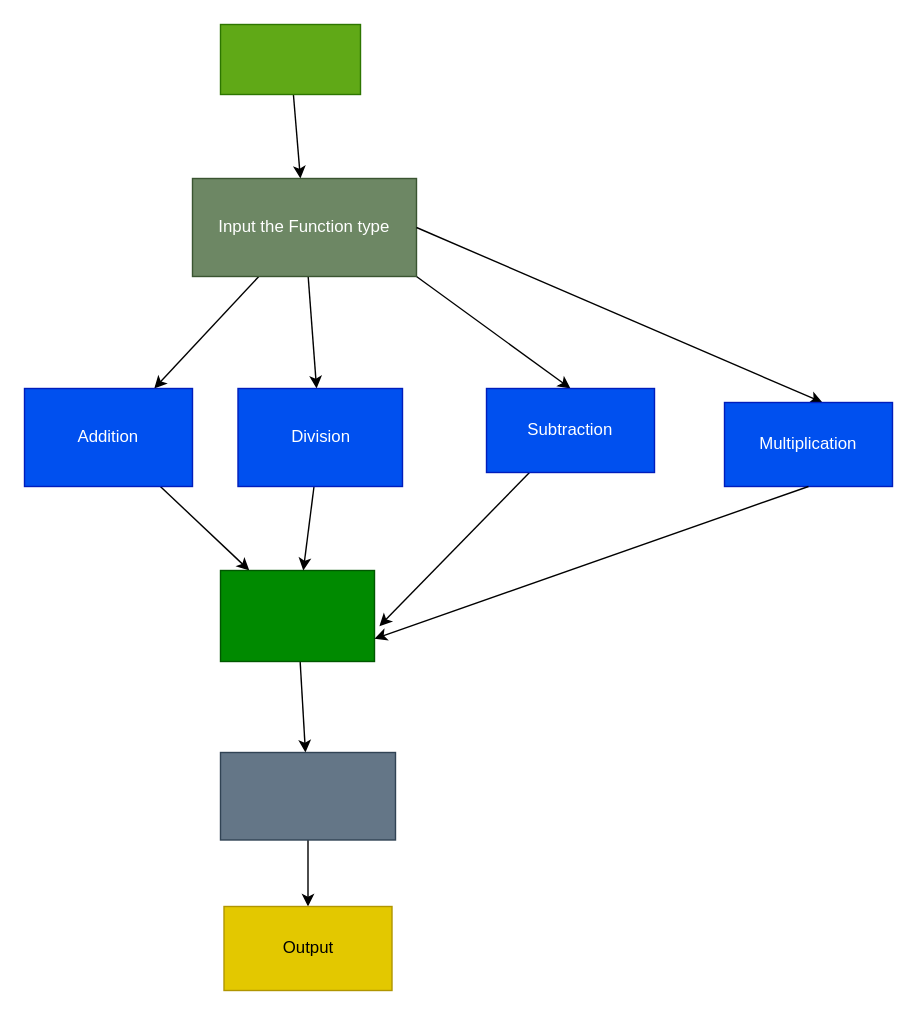
Image size: 917x1015. Some labels were removed from this diagram. Here are the shapes that lost their labels. From the top down, the centre of each, then its label:
At point 289,58: "User".
At point 296,615: "Input the Values".
At point 307,795: "Call Function".
